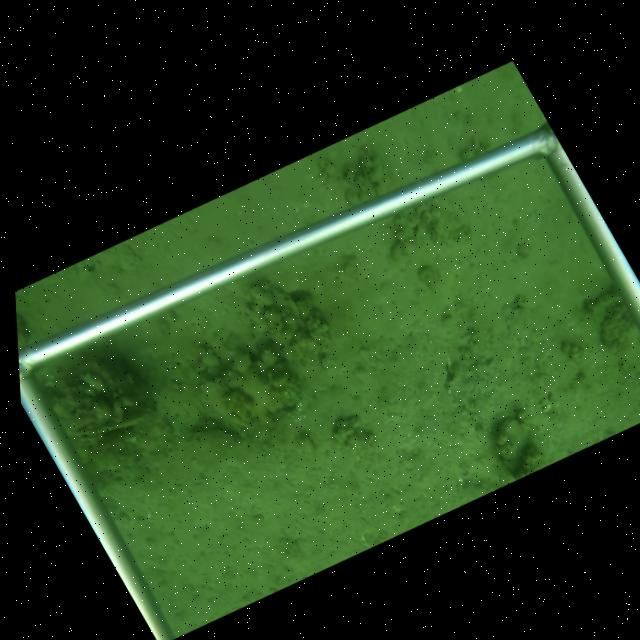Oyster-Closed: (254, 279, 311, 340), (70, 408, 156, 440), (494, 416, 532, 474)
